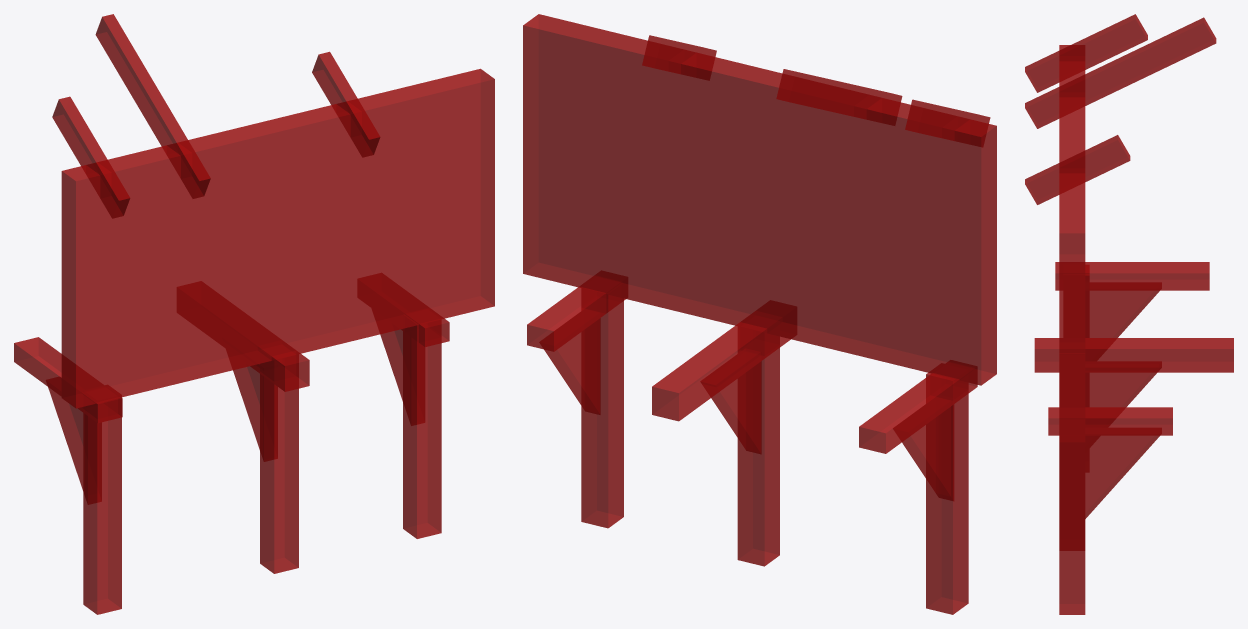
The model's file is SM_Bld_Shack_Ruins_01_Collision.fbx.
3 views of the same model, side by side, from view 1: azimuth 30°, elevation 25°; view 2: azimuth 150°, elevation 25°; view 3: azimuth 270°, elevation 25° (orthographic). The views are drawn at different scales.
Parts seen in each view (by area): view 1: SM_Bld_Shack_Ruins_01_Collision; view 2: SM_Bld_Shack_Ruins_01_Collision; view 3: SM_Bld_Shack_Ruins_01_Collision.
Part boxes in pixels (left/top/right/bottom): SM_Bld_Shack_Ruins_01_Collision: left=14, top=14, right=494, bottom=614; SM_Bld_Shack_Ruins_01_Collision: left=523, top=14, right=996, bottom=614; SM_Bld_Shack_Ruins_01_Collision: left=1025, top=14, right=1233, bottom=614.
Size of the model in its own units: 485 by 578 by 228.
